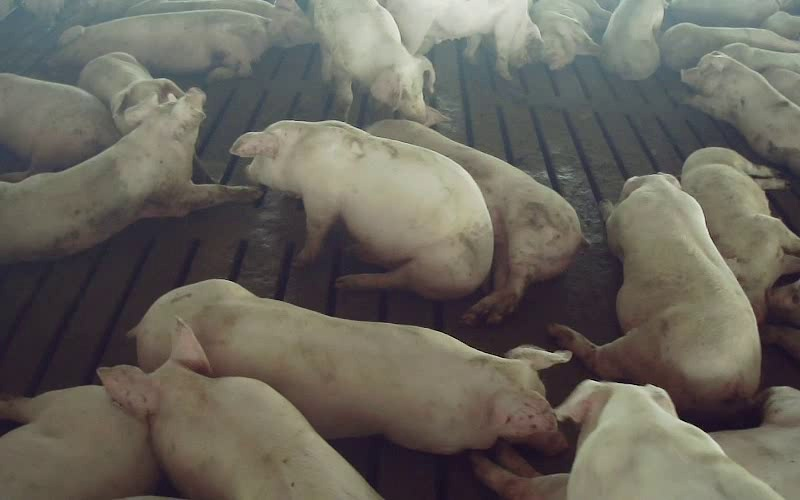pig: (133, 279, 569, 453), (550, 175, 760, 421), (98, 319, 380, 499), (0, 89, 260, 262), (367, 120, 586, 322), (556, 380, 782, 499), (682, 147, 799, 323), (51, 10, 269, 78), (681, 51, 799, 175), (314, 0, 432, 119), (380, 0, 540, 78), (79, 52, 183, 134), (531, 0, 610, 69)
